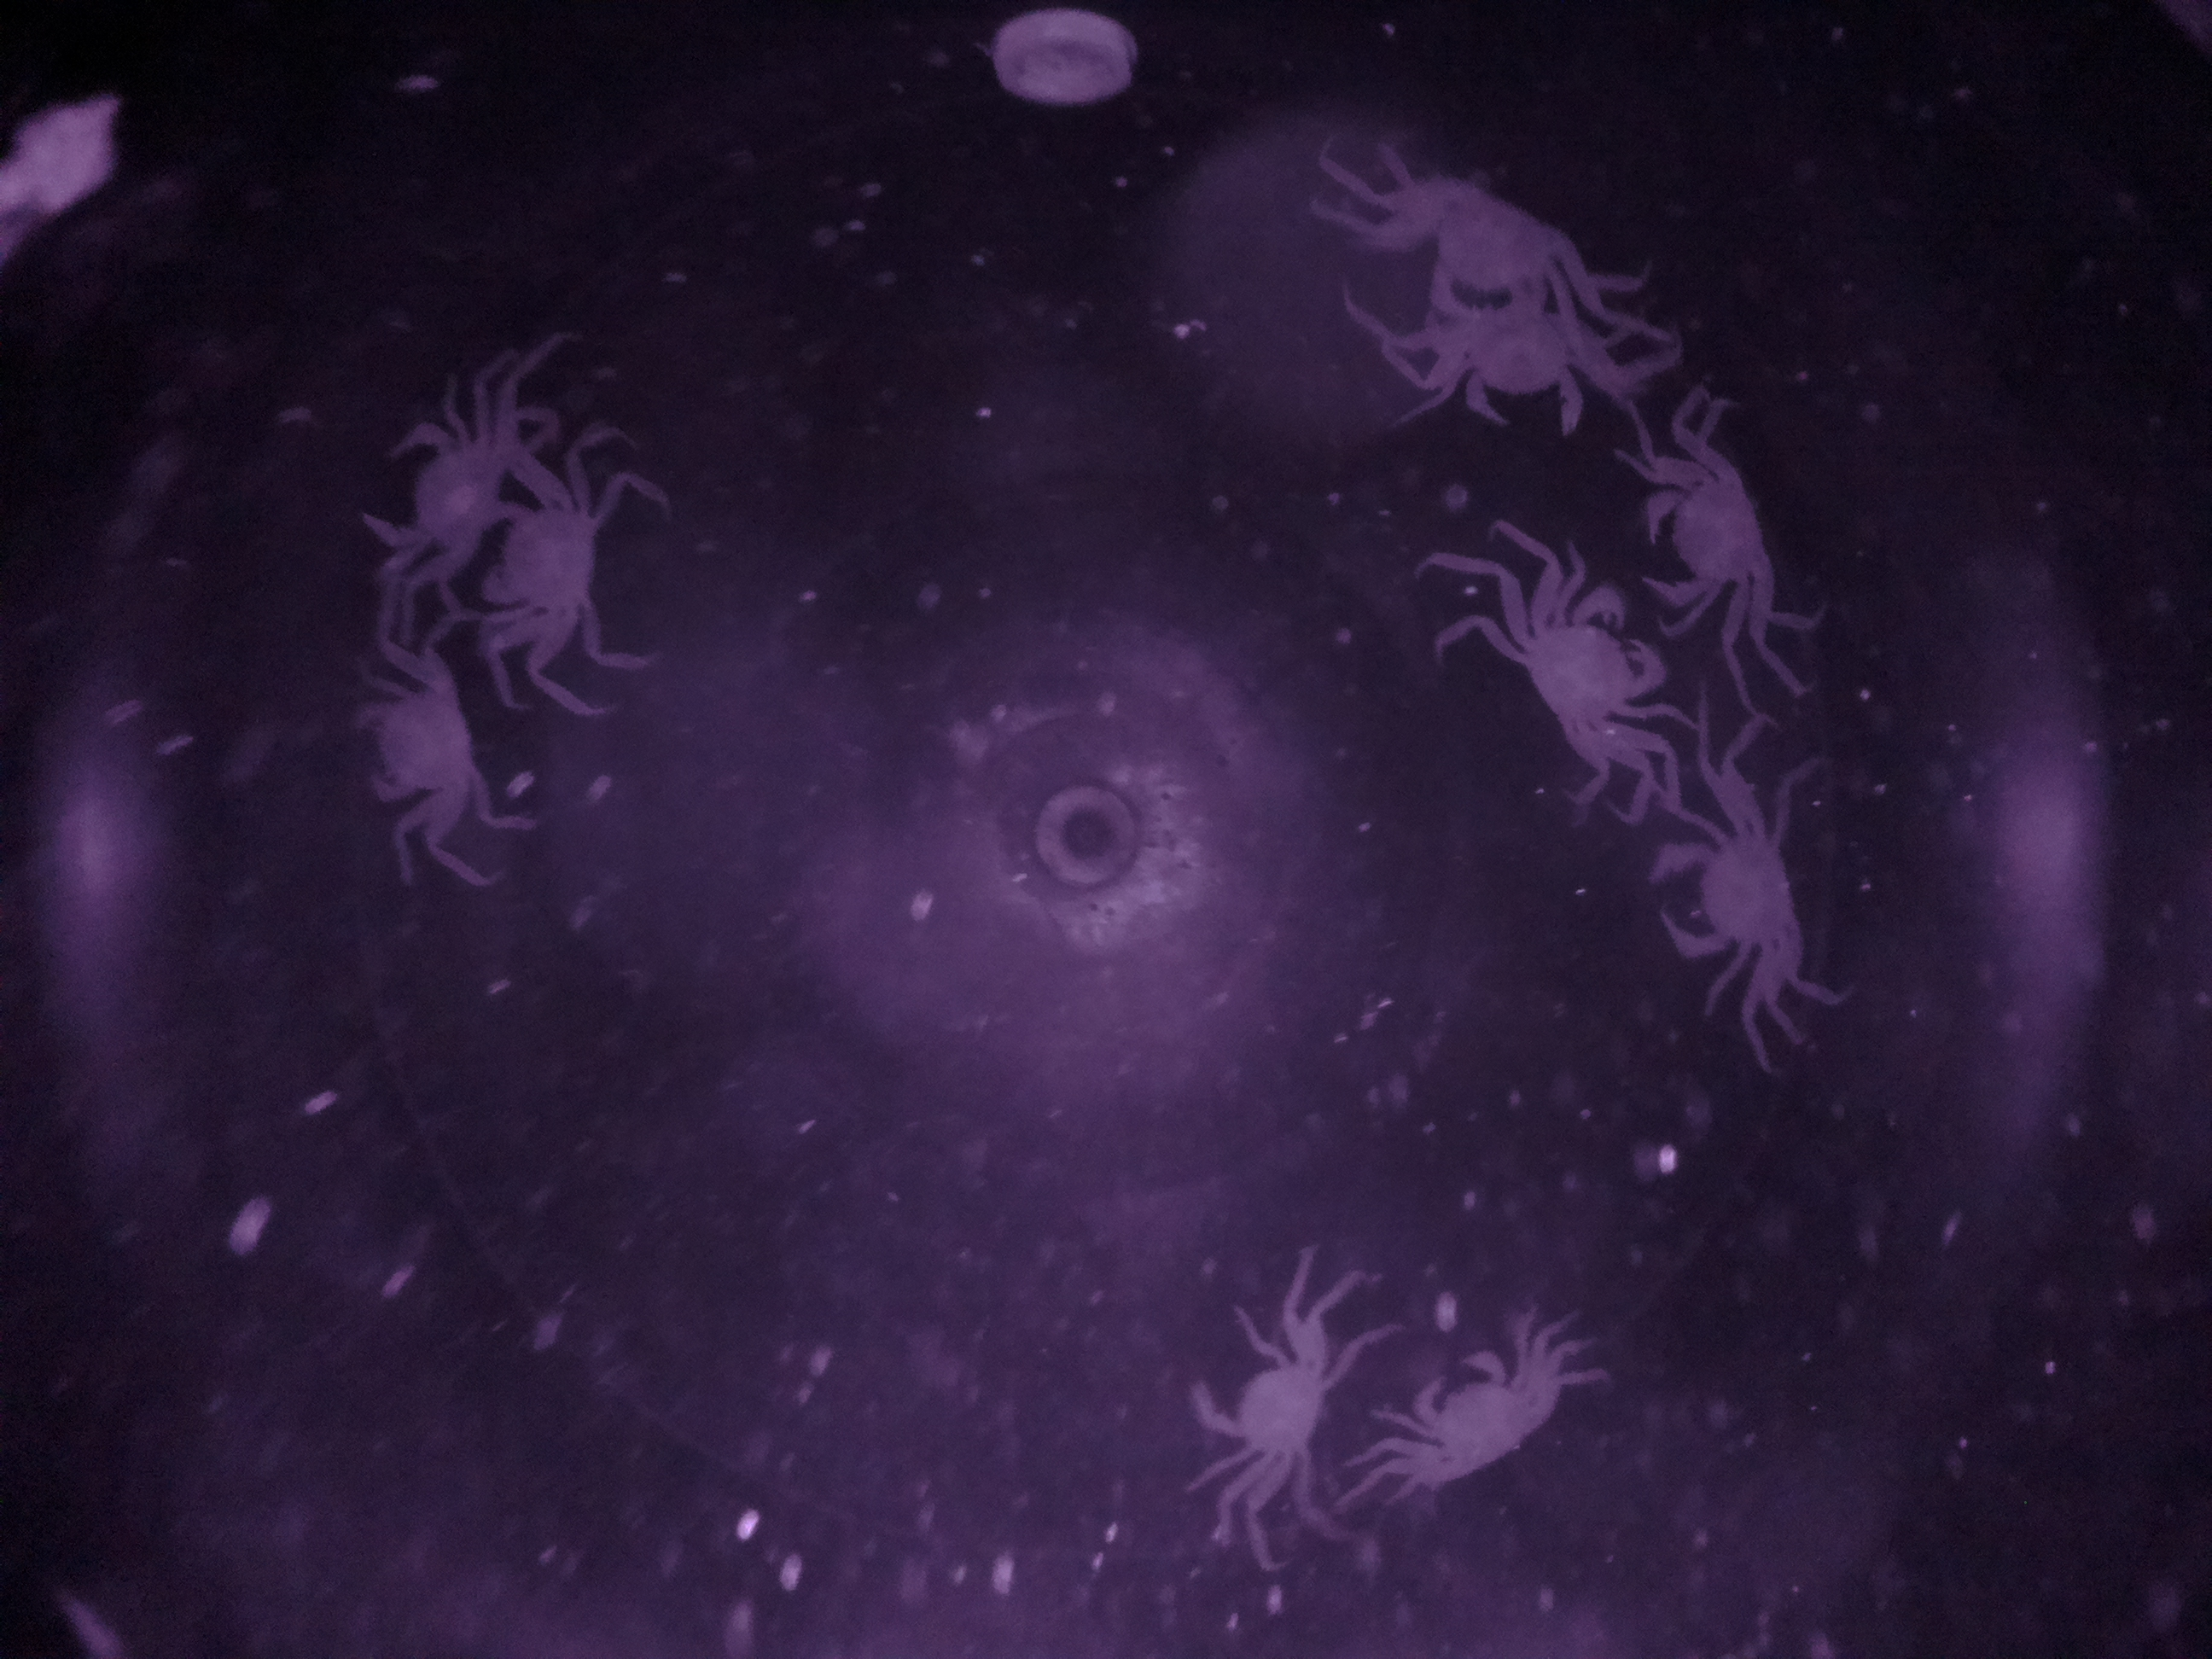Crab: (1170, 1286, 1343, 1493), (1642, 786, 1806, 999), (474, 462, 632, 662), (1519, 568, 1669, 774), (1632, 455, 1789, 627), (1400, 1328, 1538, 1518)
